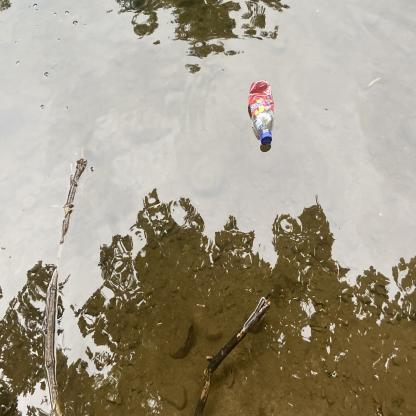trash: (243, 73, 278, 150)
